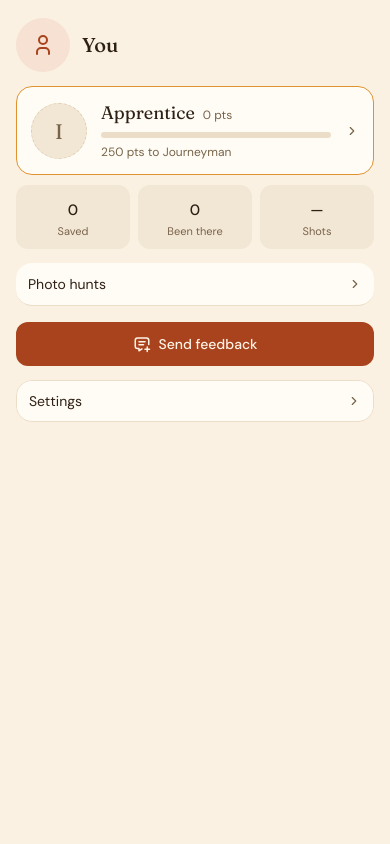
Test: Feedback › is reachable from a prominent button on You
This screenshot has width=390, height=844.
Step 1. Click the button "Send feedback" → (195,344), box [16,322,374,366]
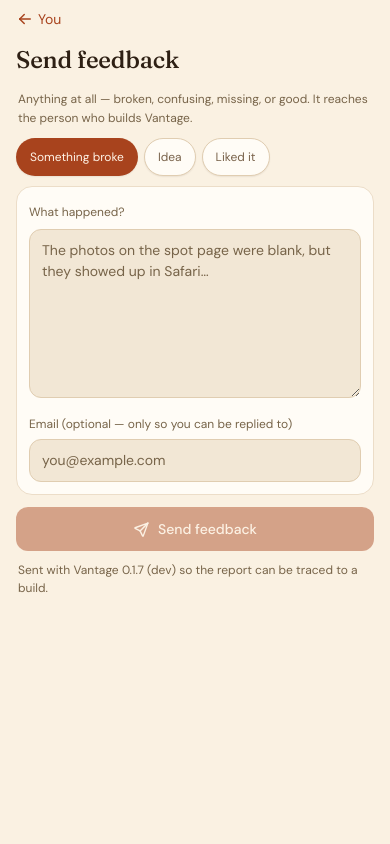
Expected: the heading "Send feedback" is shown, [16,45,179,74]
